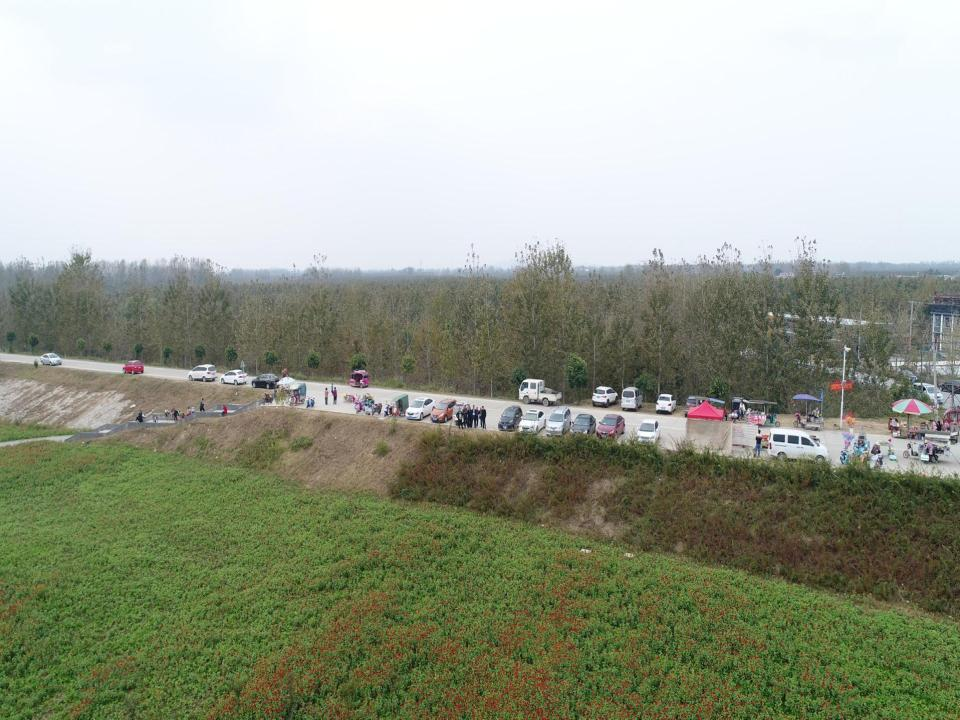car: (595, 412, 626, 440), (911, 380, 944, 406), (634, 418, 661, 447), (404, 397, 435, 421), (186, 362, 218, 385), (430, 398, 458, 424), (498, 404, 524, 432), (518, 409, 546, 435), (570, 413, 596, 441), (592, 385, 618, 408), (683, 393, 705, 420), (861, 373, 885, 396), (250, 373, 282, 390), (836, 365, 858, 387), (654, 394, 676, 415), (122, 359, 146, 378), (894, 368, 918, 386), (220, 370, 248, 385), (731, 395, 746, 421), (937, 378, 959, 395), (39, 352, 62, 367)
truck: (518, 377, 562, 406)
van: (768, 427, 830, 467), (546, 405, 572, 437), (620, 386, 644, 411)
